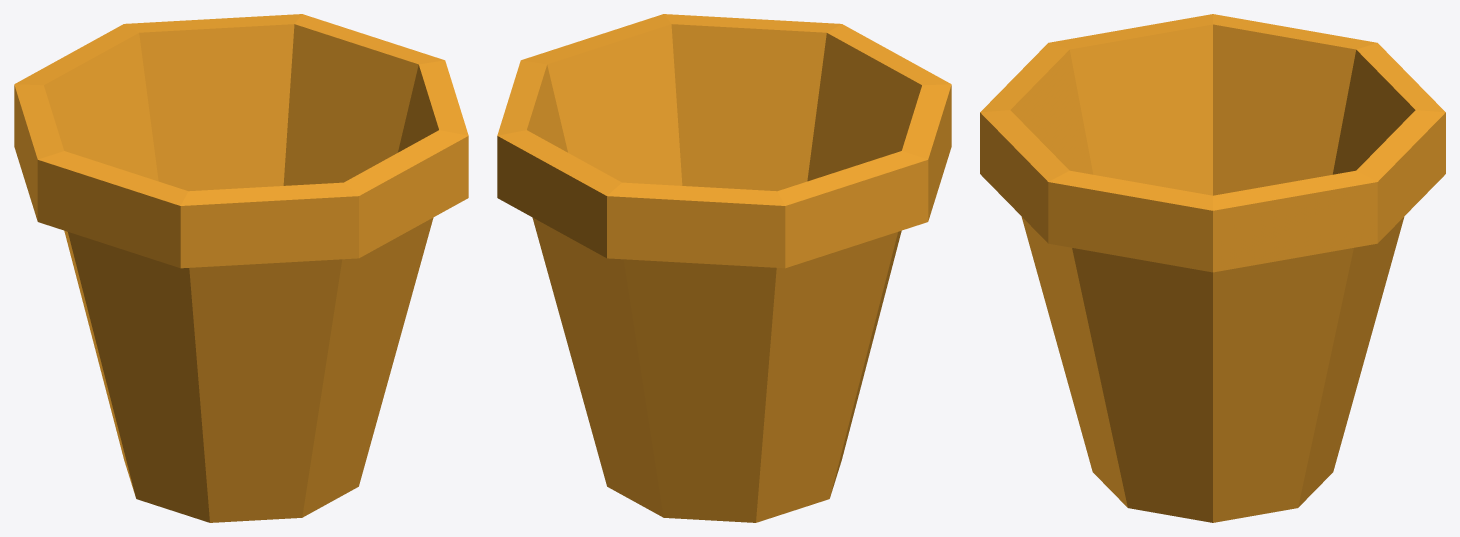
File: SM_Pot_Clay_Medium_A.fbx
3 renders of one model, left to right at view 1: azimuth 30°, elevation 25°; view 2: azimuth 150°, elevation 25°; view 3: azimuth 270°, elevation 25°, orthographic.
Visible parts, largest first — view 1: pot-clay-medium-a; view 2: pot-clay-medium-a; view 3: pot-clay-medium-a.
Part boxes in pixels (x1,y1,x2,y2): pot-clay-medium-a: [14, 14, 468, 522]; pot-clay-medium-a: [497, 14, 951, 522]; pot-clay-medium-a: [980, 14, 1445, 522].
Size of the model in its own units: 0.21 by 0.1809 by 0.21.
